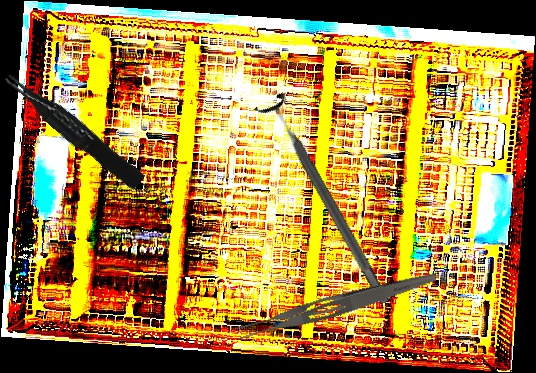Dressing Forceps: (233, 263, 438, 346)
Fixation Ring: (252, 91, 401, 312)
Tissue Forceps: (2, 63, 146, 196)
